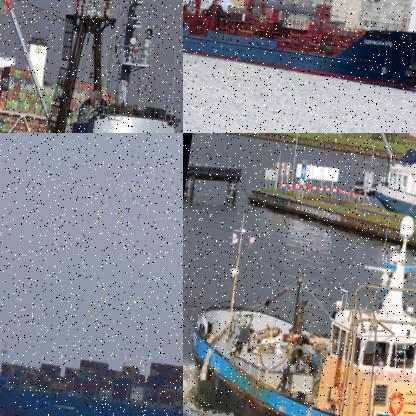Fishing Boat: (183, 188, 415, 415)
Merchant Ship: (183, 0, 415, 100), (0, 291, 182, 415), (0, 20, 128, 132), (360, 133, 415, 265)
Military Ship: (0, 0, 182, 132)
